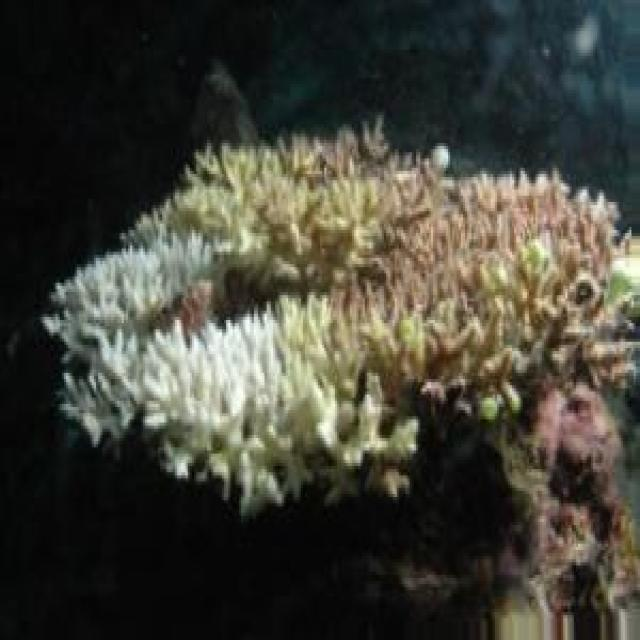bleached coral: (132, 351, 258, 435), (87, 233, 213, 292), (275, 314, 316, 410)
healthy coral: (331, 301, 482, 385), (356, 177, 442, 270), (544, 398, 617, 506), (446, 211, 553, 283), (53, 280, 139, 363), (235, 168, 329, 236), (531, 304, 593, 395)
